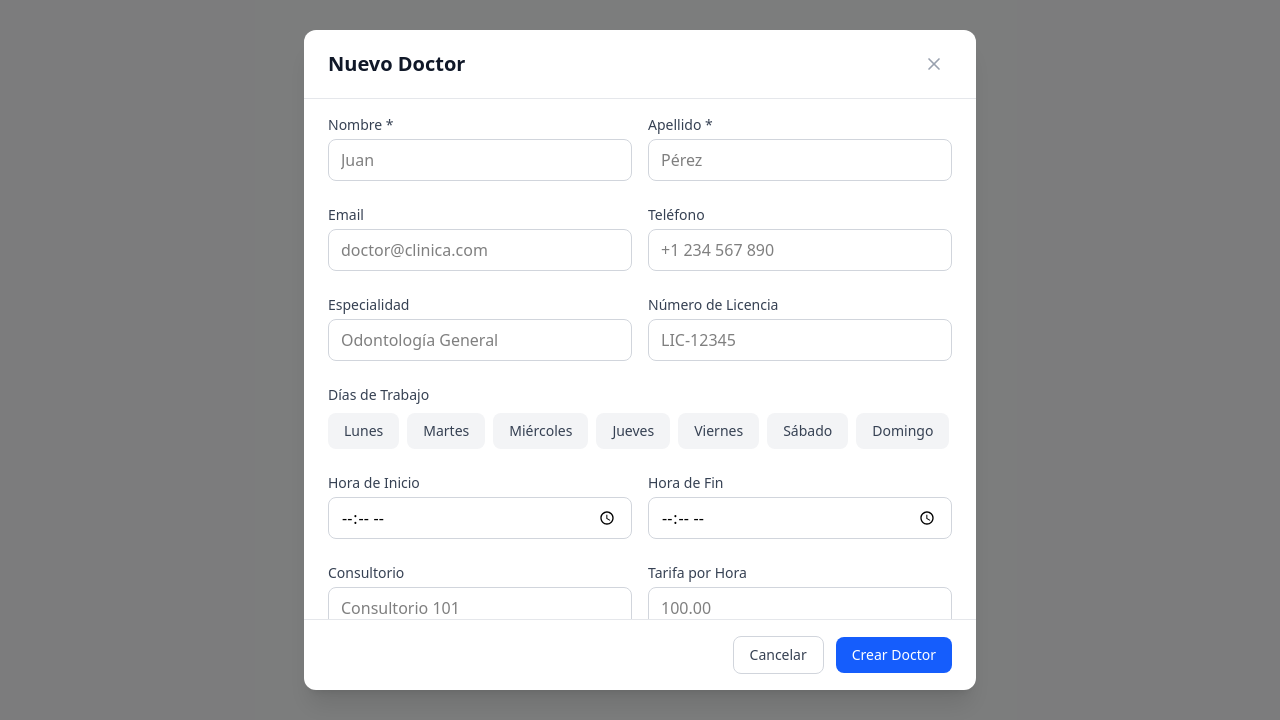
Test: DoctorFormModal › form submission › should show loading spinner while submitting
Type "John" into the field with placeholder "Juan" at {"x": 480, "y": 160}, box 328,139 -> 632,181
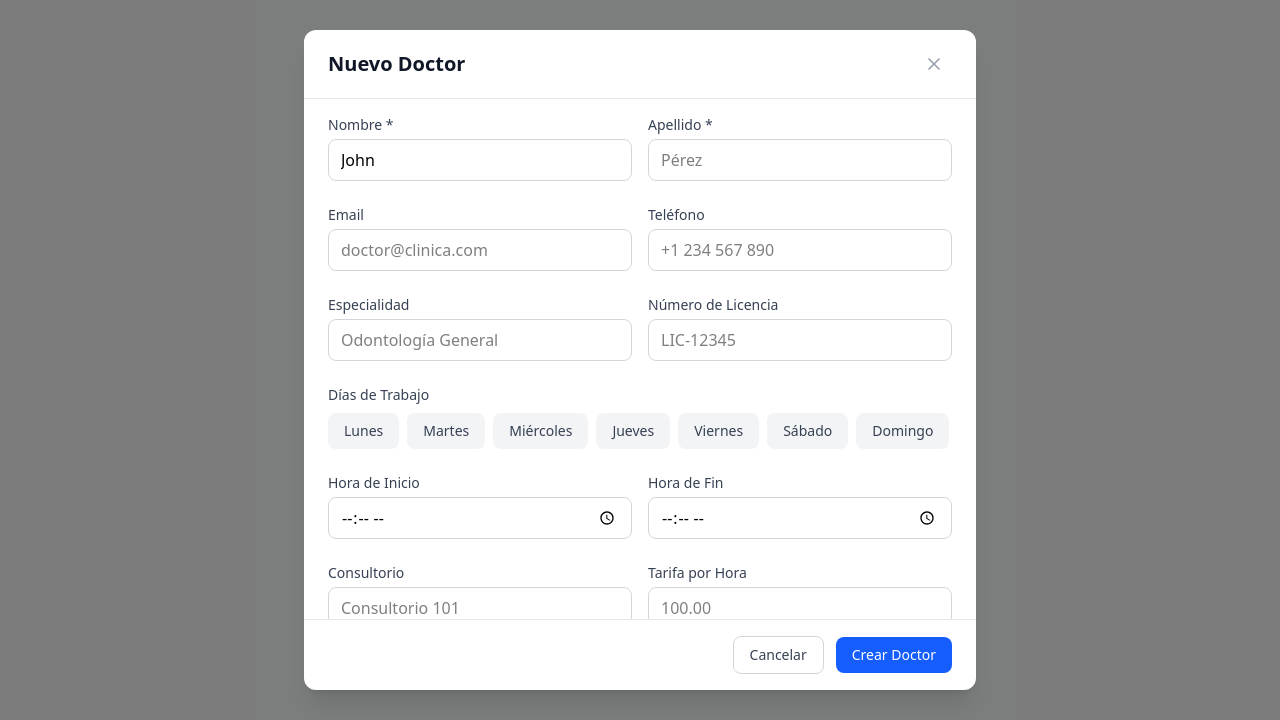
Type "Doe" into the field with placeholder "Pérez" at {"x": 800, "y": 160}, box 648,139 -> 952,181
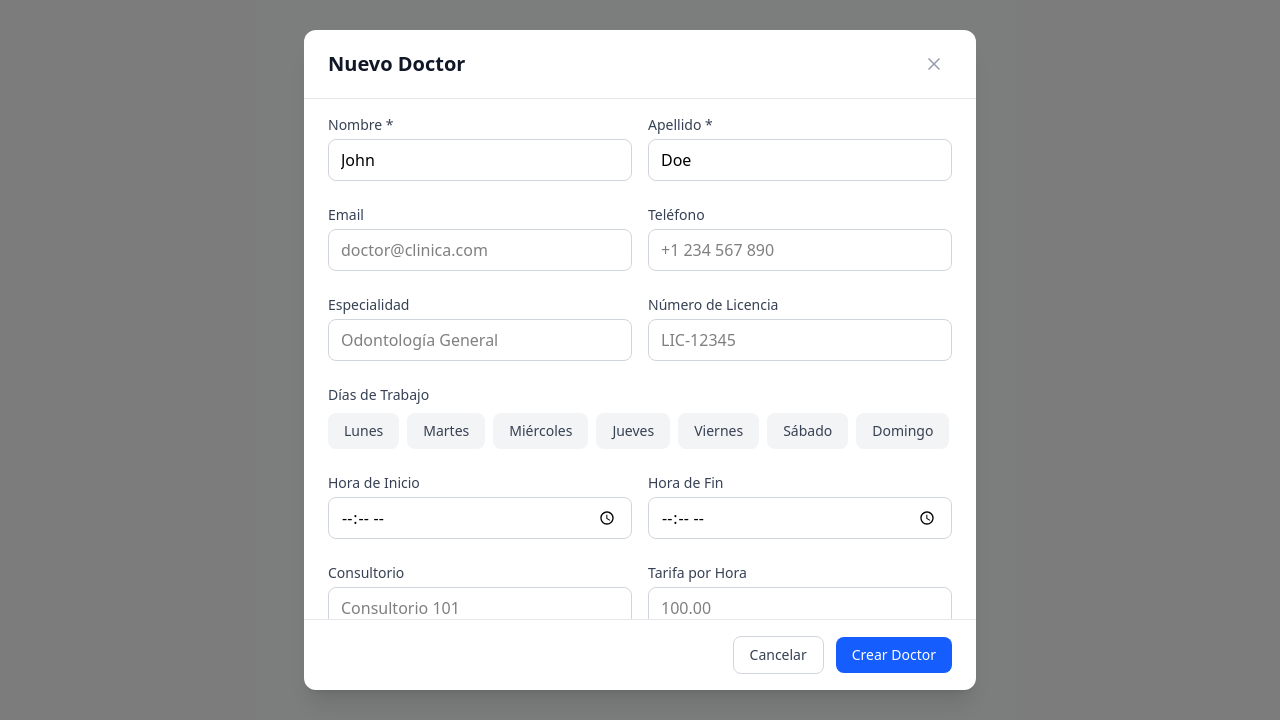
Click the button "Crear Doctor" at {"x": 894, "y": 655}, box 836,637 -> 952,673
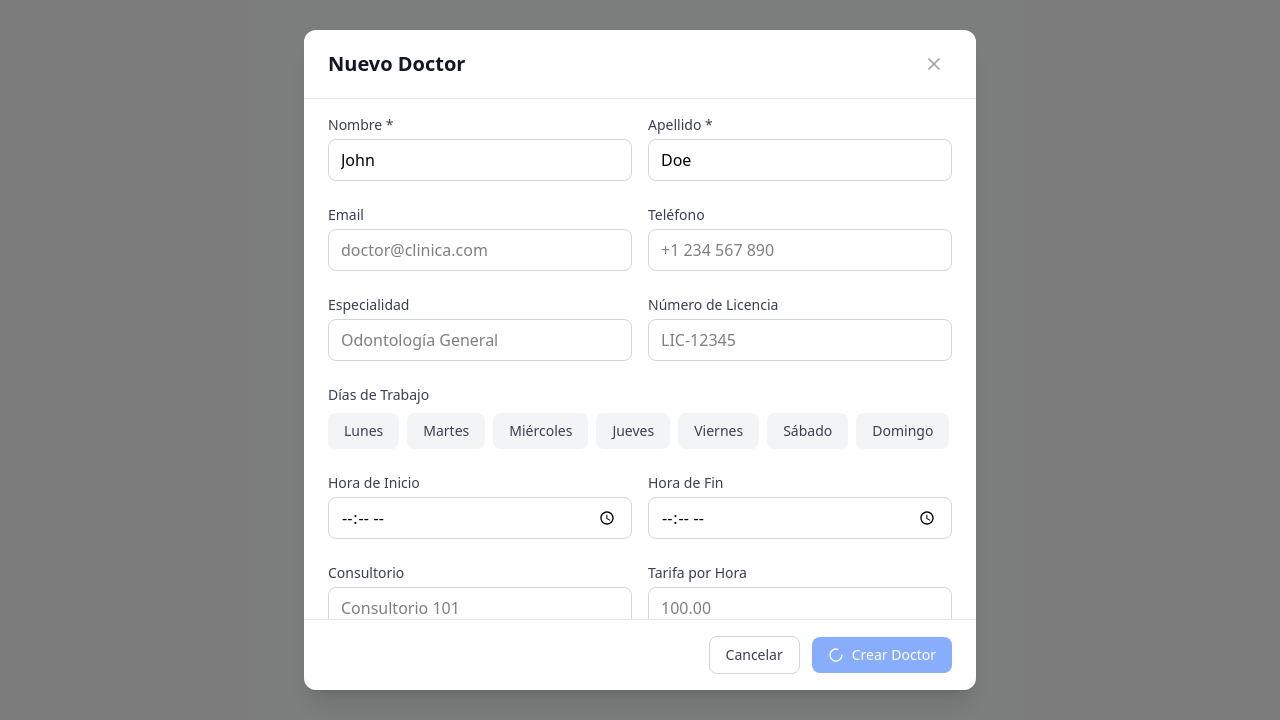
expect the icon with class "animate-spin" is shown: met, box 828,647 -> 844,663
